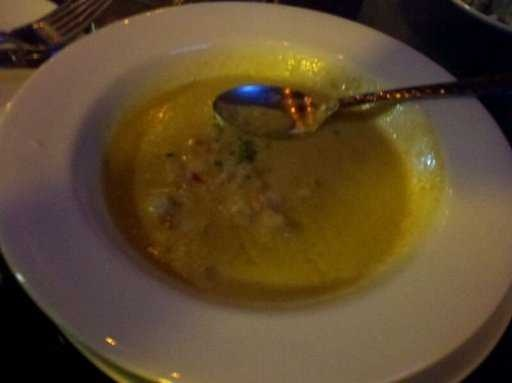soup: (29, 18, 475, 328)
